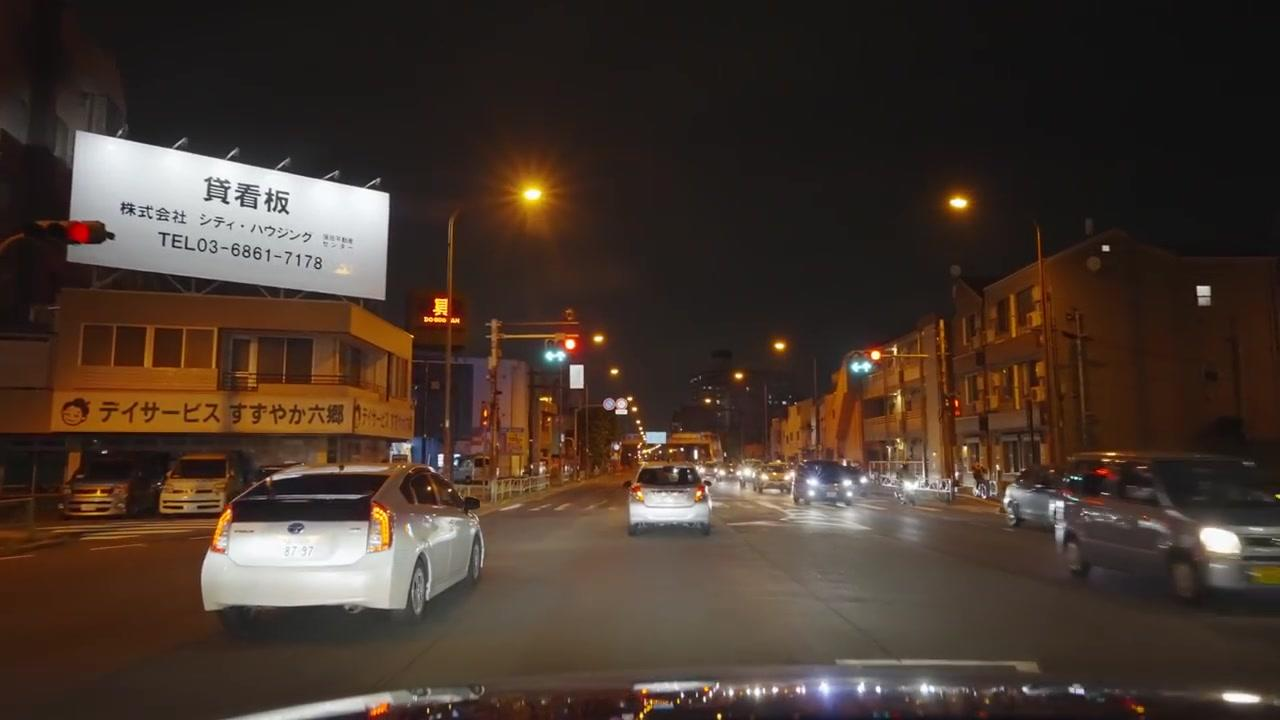bus: (666, 433, 719, 480)
car: (199, 460, 486, 638), (1056, 451, 1279, 607), (57, 451, 171, 519), (158, 450, 258, 516), (626, 462, 712, 537), (1002, 466, 1066, 530), (793, 459, 861, 506), (665, 435, 720, 480), (895, 474, 955, 506), (756, 461, 792, 493), (708, 468, 743, 498)
traffic light: (35, 220, 113, 243), (486, 320, 504, 363), (562, 336, 581, 359), (1197, 288, 1210, 305)
